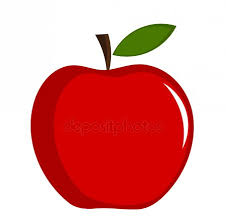apple: (23, 13, 202, 213), (23, 14, 201, 214)
